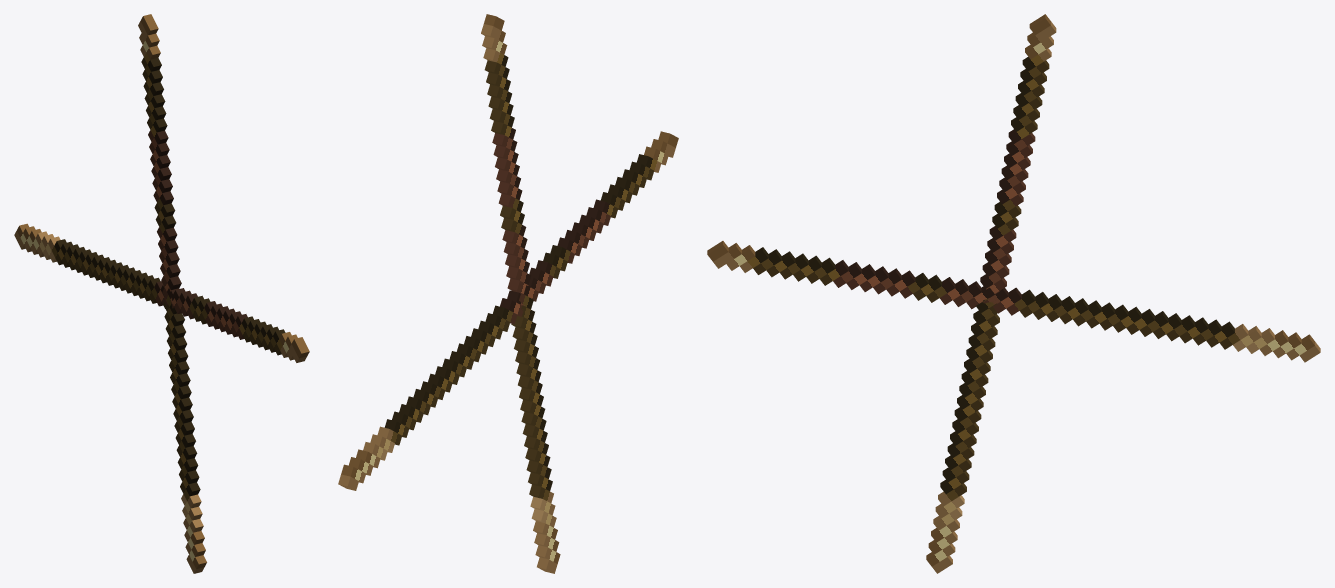
The model's file is bronze_pike.glb.
The picture shows the model from 3 angles, left to right: view 1: azimuth 30°, elevation 25°; view 2: azimuth 150°, elevation 25°; view 3: azimuth 270°, elevation 25°; orthographic projection. The views are drawn at different scales.
Parts seen in each view (by area): view 1: off__Tool_L, main__Tool_R; view 2: off__Tool_L, main__Tool_R; view 3: main__Tool_R, off__Tool_L.
Part boxes in pixels (x1=…): off__Tool_L: x1=138, y1=14, x2=206, y2=573; main__Tool_R: x1=14, y1=223, x2=309, y2=362; off__Tool_L: x1=481, y1=14, x2=560, y2=573; main__Tool_R: x1=338, y1=131, x2=678, y2=490; main__Tool_R: x1=707, y1=241, x2=1320, y2=362; off__Tool_L: x1=926, y1=14, x2=1056, y2=573.
Size of the model in its own units: 0.0625 by 3.75 by 3.75.
1 material, 1 textured.
